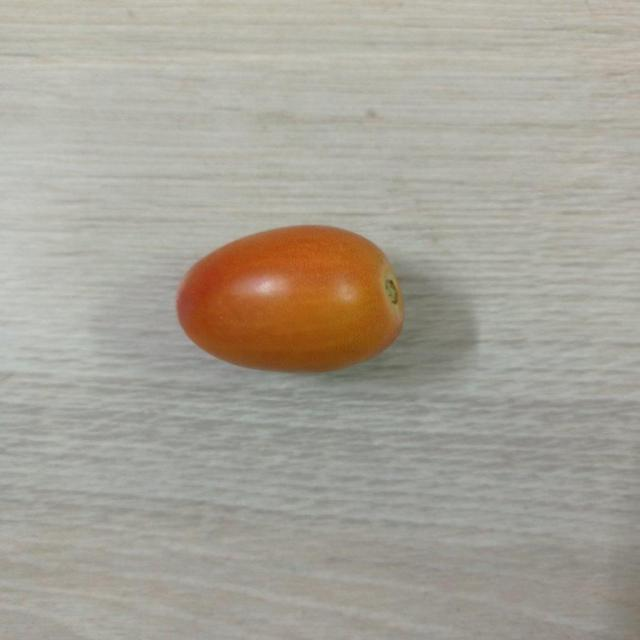Tomato: (173, 221, 413, 371)
